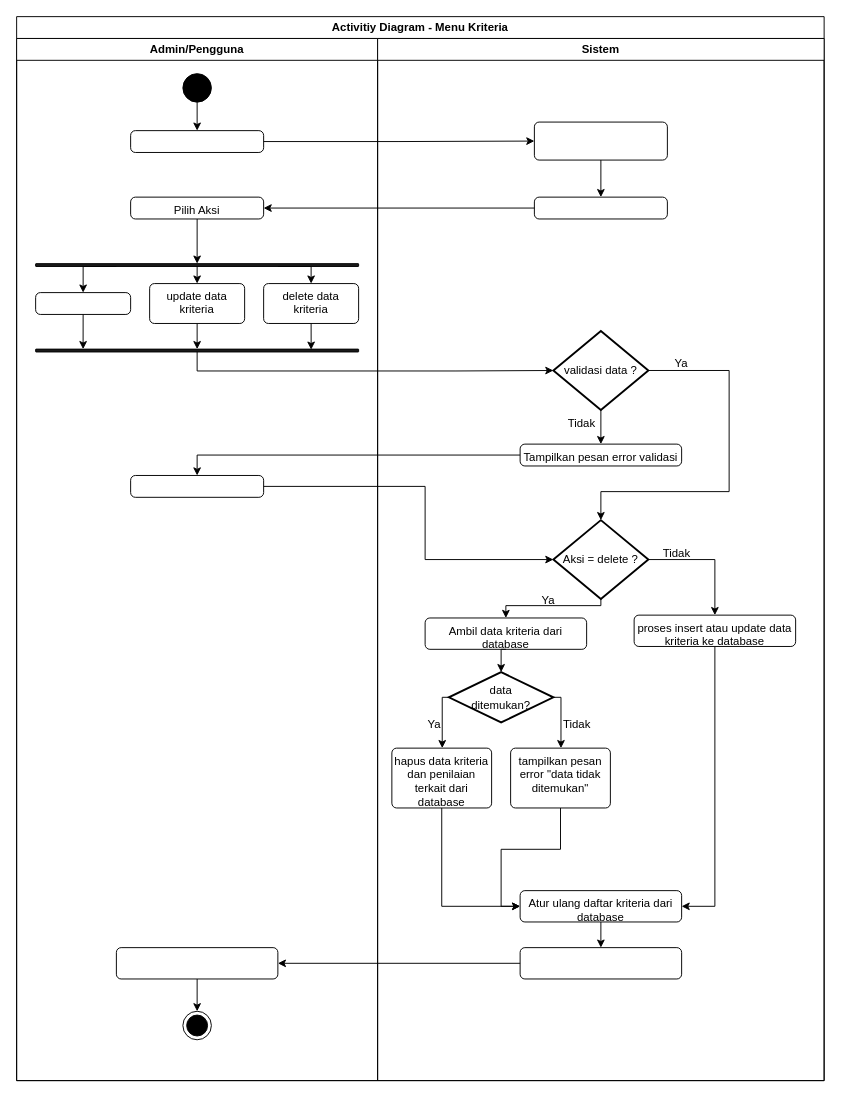
This 841x1097 diagram has some shape labels left out. The shapes that lost their labels are listed below. From the top down, each one's centre as x and y in pixels, then its label:
point 197,141: Pilih menu "Kriteria"
point 600,140: Ambil semua kriteria dari database
point 600,207: Tampilkan daftar kriteria
point 83,303: Input data kriteria
point 197,486: Perbaiki data
point 196,963: melihat daftar kriteria terbaru
point 600,963: tampilkan daftar data kriteria terbaru
